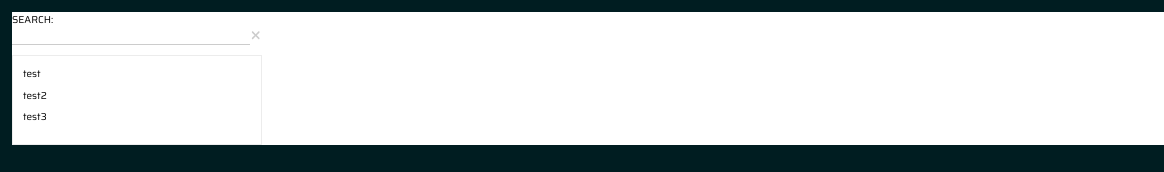
Test: SearchSelector › should escape items correctly
Type "+test2" into the field at (131, 36), box [12, 27, 250, 45]
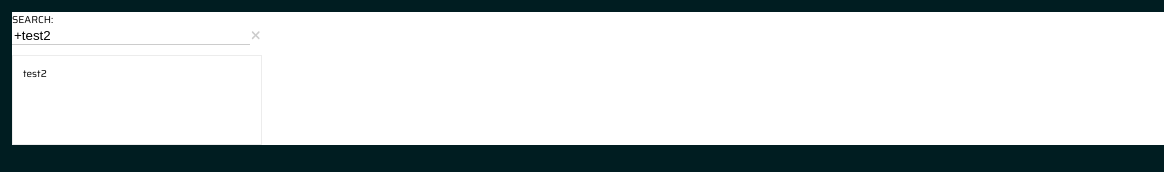
Expected: the number of list items "test2" is 1, [23, 66, 47, 81]
